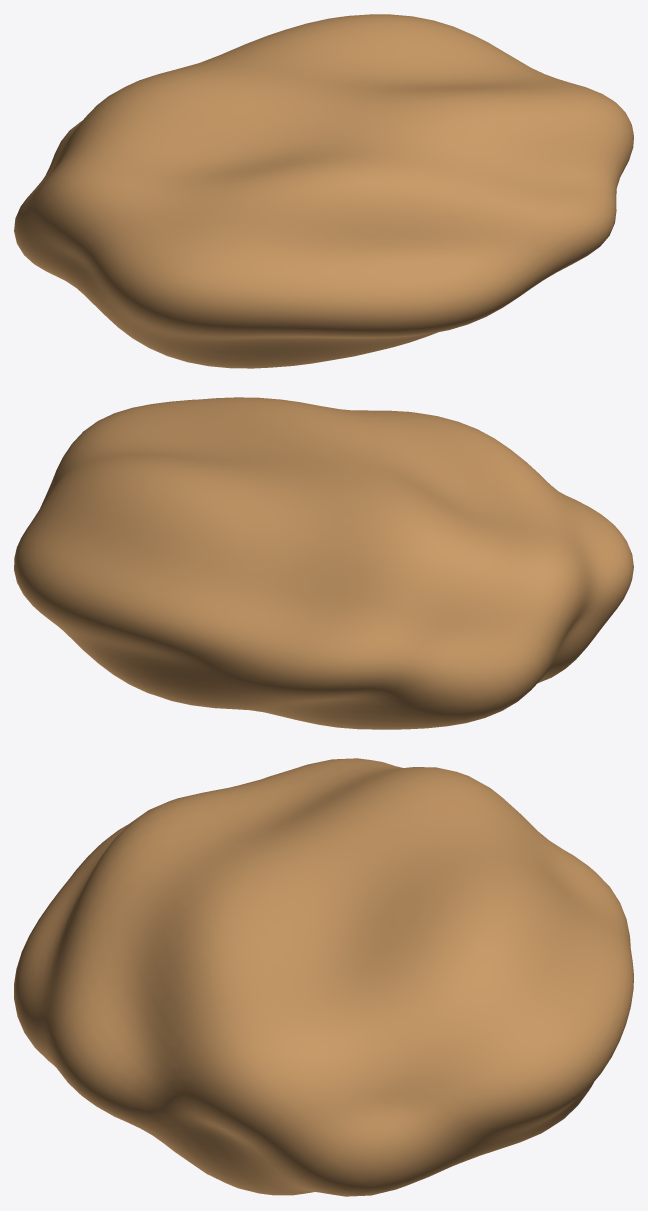
File: fluid.glb
3 views of the same model, one above another, from view 1: azimuth 30°, elevation 25°; view 2: azimuth 150°, elevation 25°; view 3: azimuth 270°, elevation 25° (orthographic). The views are drawn at different scales.
Visible parts, largest first — view 1: Fluid; view 2: Fluid; view 3: Fluid.
Boxes of the visible parts, x1,y1,x2,y2 form: Fluid: (14, 14, 633, 368); Fluid: (14, 397, 633, 729); Fluid: (14, 758, 633, 1196).
Size of the model in its own units: 0.06 by 0.0245 by 0.05.
